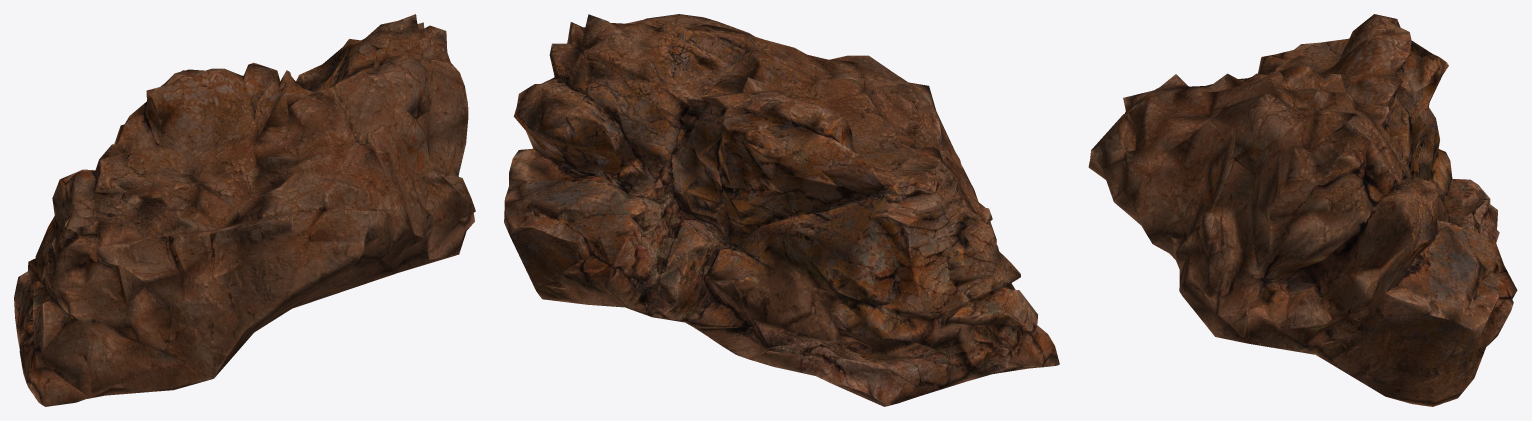
File: node_metal_0.glb
The picture shows the model from 3 angles, left to right: view 1: azimuth 30°, elevation 25°; view 2: azimuth 150°, elevation 25°; view 3: azimuth 270°, elevation 25°; orthographic projection. The views are drawn at different scales.
Parts seen in each view (by area): view 1: boulder_01; view 2: boulder_01; view 3: boulder_01.
Boxes of the visible parts, bbox=[...] form: boulder_01: bbox=[14, 14, 475, 406]; boulder_01: bbox=[504, 14, 1059, 406]; boulder_01: bbox=[1088, 14, 1517, 406].
Size of the model in its own units: 1.51 by 0.8253 by 1.06.
1 material, 1 textured.
